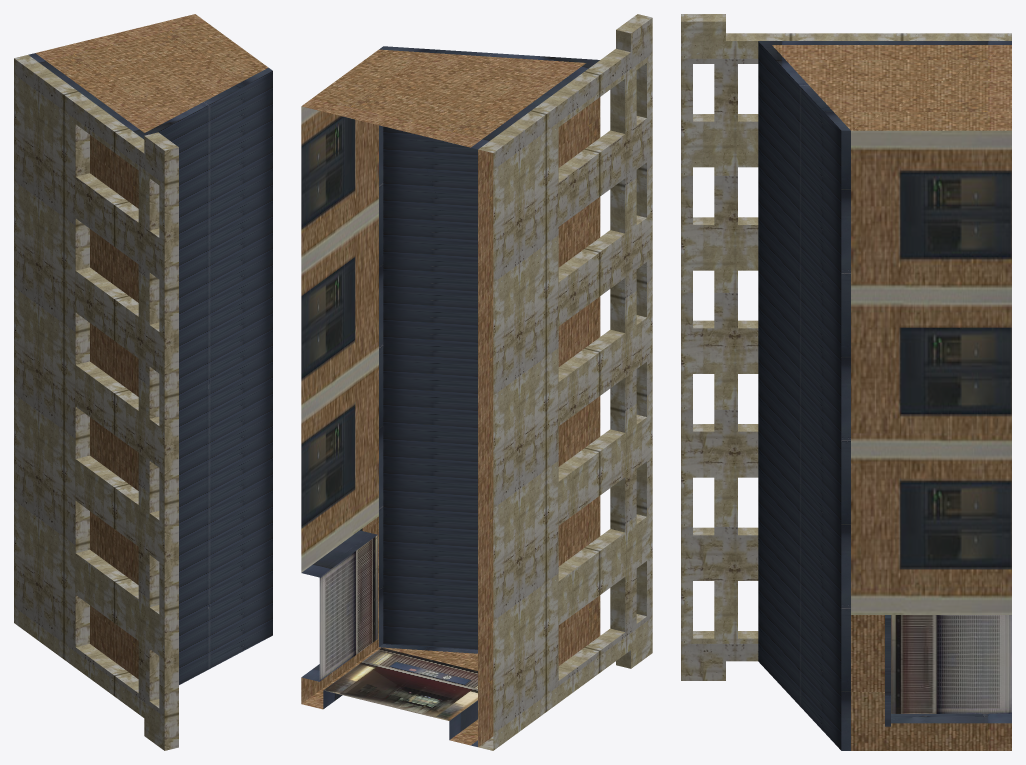
The model's file is DTZ.gltf.
The picture shows the model from 3 angles, left to right: view 1: azimuth 30°, elevation 25°; view 2: azimuth 150°, elevation 25°; view 3: azimuth 270°, elevation 25°; orthographic projection. The views are drawn at different scales.
Bounding box in the file's own units: 7.5 × 22.93 × 10.43.
6 materials, 6 textured.
